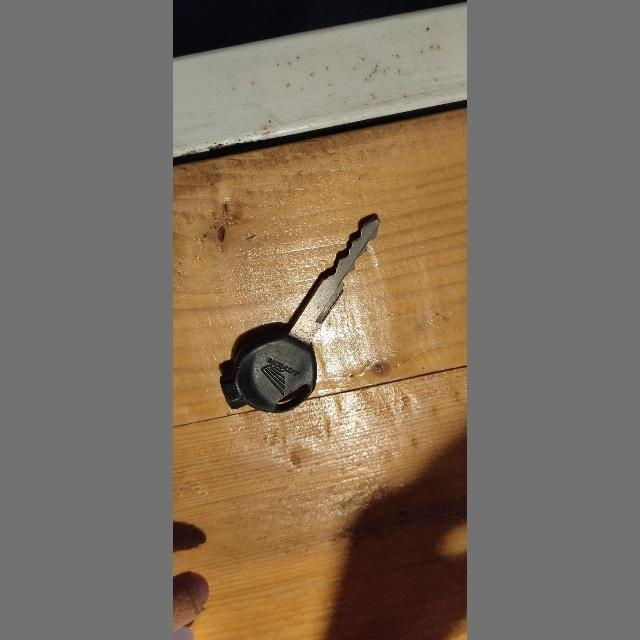Keys: (217, 212, 383, 422)
